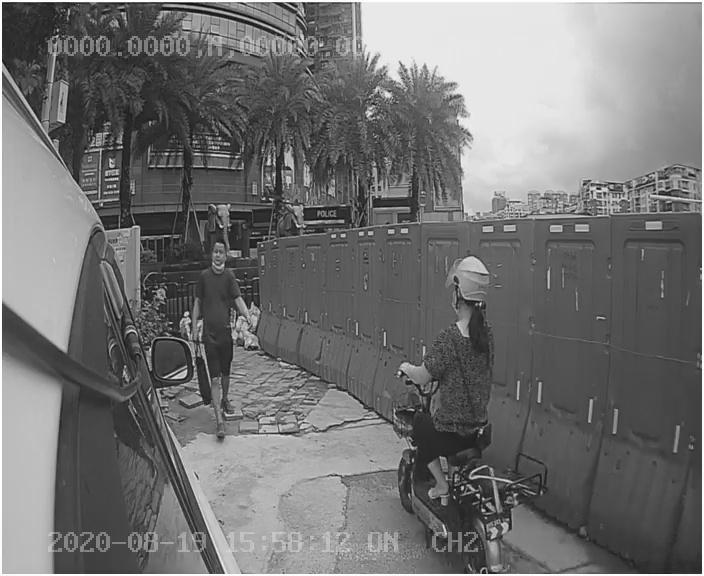person: (186, 239, 279, 444)
